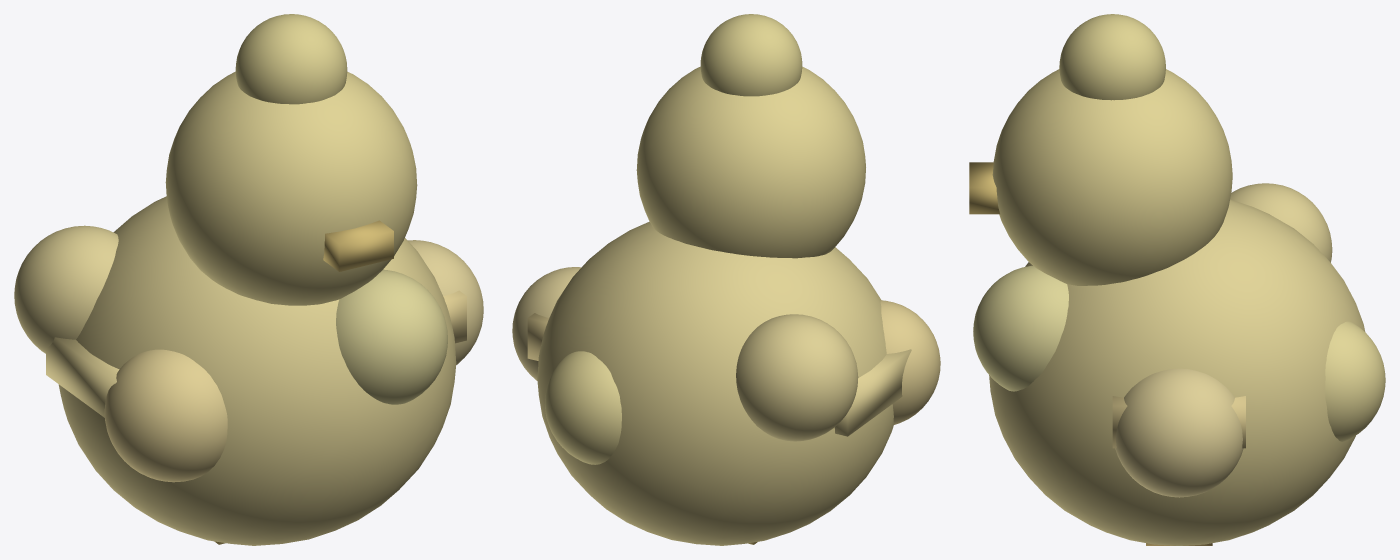
Rendered from lifecycle_chicken_baby.glb.
3 views of the same model, side by side, from view 1: azimuth 30°, elevation 25°; view 2: azimuth 150°, elevation 25°; view 3: azimuth 270°, elevation 25° (orthographic). The views are drawn at different scales.
Visible parts, largest first — view 1: body, head, tuft2, tuft1, tuft3, head_tuft, wing-1, tuft0, beak, wing1; view 2: body, head, tuft3, head_tuft, tuft4, tuft2, wing-1, tuft0, wing1; view 3: body, head, tuft0, tuft1, head_tuft, tuft4, tuft3, beak, wing1.
Part boxes in pixels (bbox=[...]): body: bbox=[58, 196, 456, 545]; head: bbox=[165, 71, 417, 305]; tuft2: bbox=[104, 349, 227, 482]; tuft1: bbox=[336, 269, 447, 404]; tuft3: bbox=[14, 225, 118, 353]; head_tuft: bbox=[235, 14, 347, 104]; wing-1: bbox=[46, 337, 119, 417]; tuft0: bbox=[408, 240, 483, 364]; beak: bbox=[323, 220, 393, 271]; wing1: bbox=[443, 290, 466, 343]; body: bbox=[537, 221, 893, 545]; head: bbox=[636, 66, 865, 258]; tuft3: bbox=[736, 314, 858, 441]; head_tuft: bbox=[700, 14, 802, 96]; tuft4: bbox=[545, 351, 621, 464]; tuft2: bbox=[880, 300, 940, 424]; wing-1: bbox=[834, 349, 911, 436]; tuft0: bbox=[512, 267, 581, 380]; wing1: bbox=[527, 313, 548, 360]; body: bbox=[989, 199, 1365, 545]; head: bbox=[992, 69, 1232, 285]; tuft0: bbox=[1115, 368, 1243, 497]; tuft1: bbox=[973, 265, 1068, 391]; head_tuft: bbox=[1059, 14, 1165, 100]; tuft4: bbox=[1325, 321, 1385, 441]; tuft3: bbox=[1230, 183, 1332, 262]; beak: bbox=[969, 162, 999, 214]; wing1: bbox=[1112, 396, 1245, 448].
Size of the model in its own units: 0.3352 by 0.42 by 0.3121.
